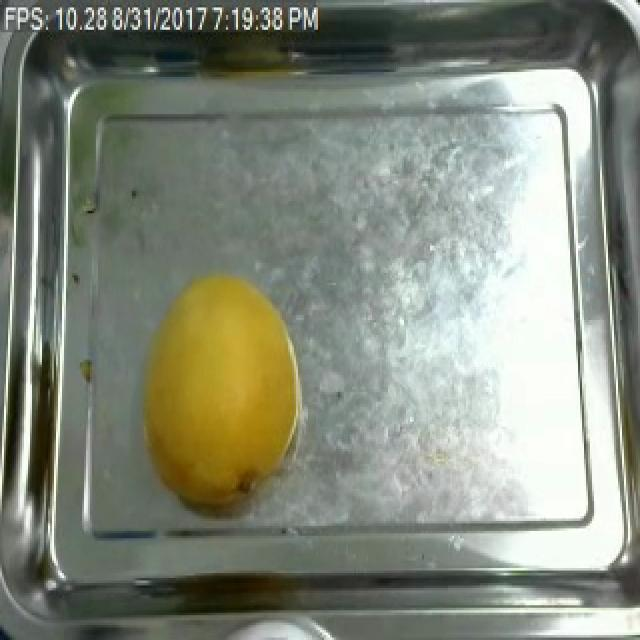fruit: (126, 263, 314, 521)
